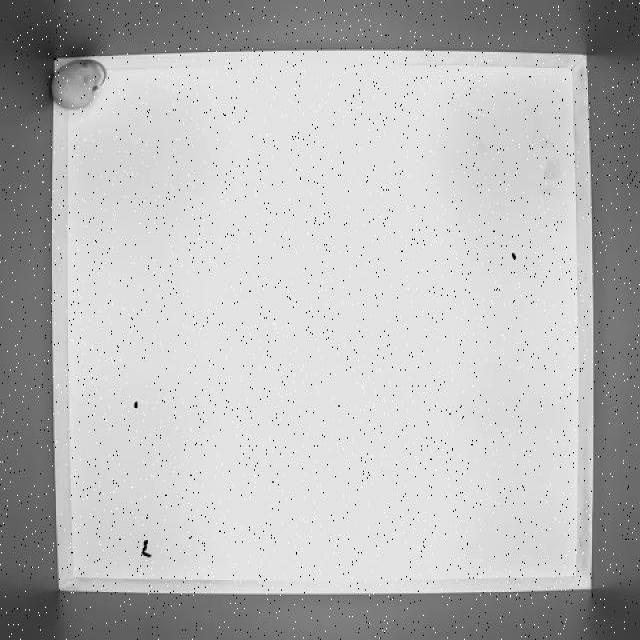rat: (50, 56, 110, 112)
